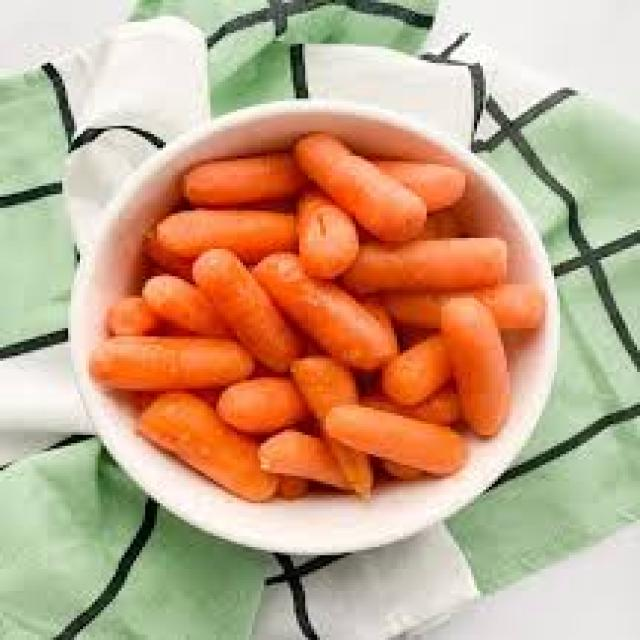Carrot: (248, 249, 395, 368), (124, 392, 278, 496), (292, 142, 431, 253), (180, 260, 301, 372), (430, 296, 514, 439), (125, 258, 245, 337), (318, 239, 527, 284), (318, 403, 454, 467), (87, 334, 247, 388), (151, 214, 306, 256), (183, 160, 333, 200)
